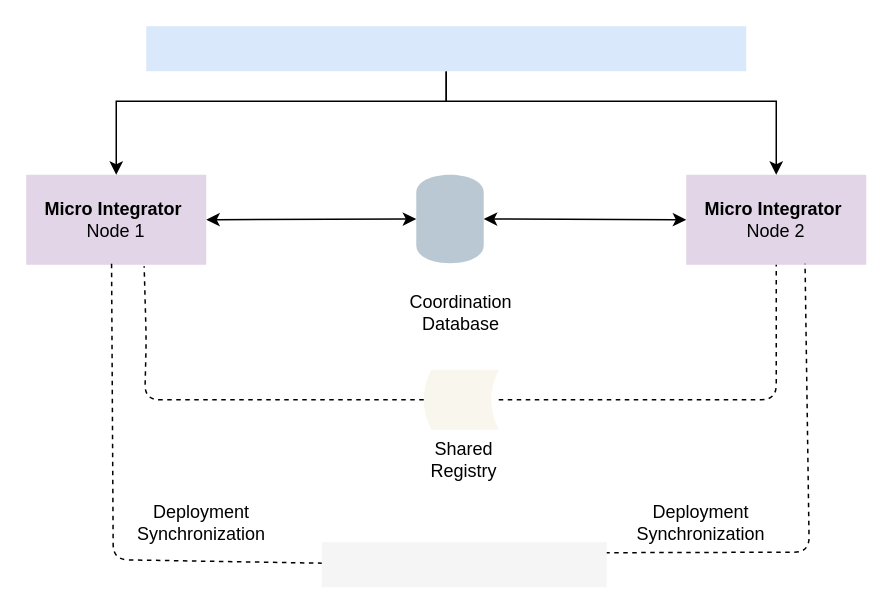
The diagram is 891 pixels wide and 612 high, and some of its shapes have lost their labels. Each missing label, with the centre of its shape:
"Deployment Directory" belongs at point 463,564.
"Load Balancer" belongs at point 446,48.
